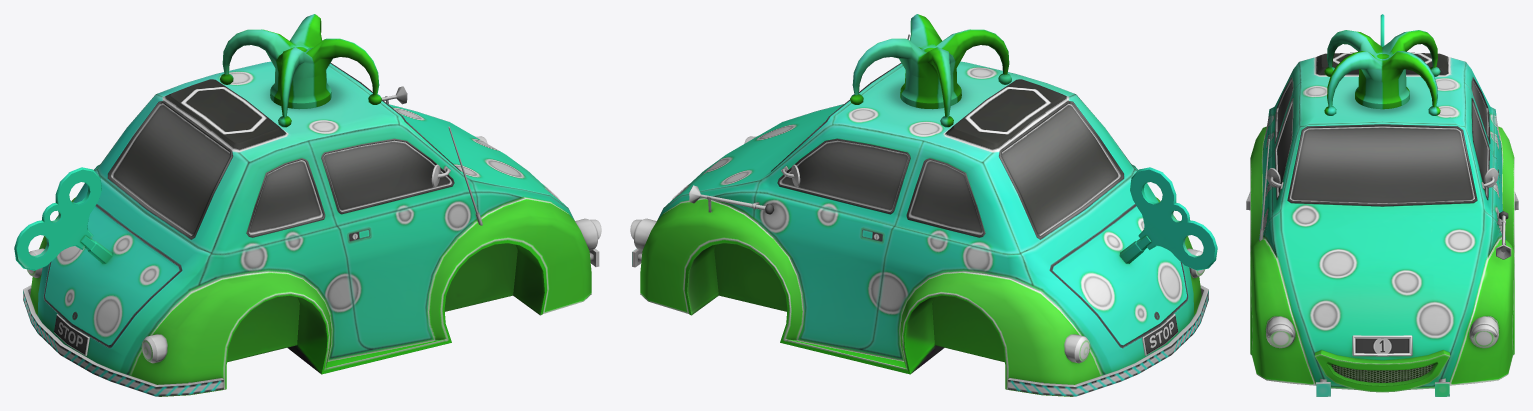
File: f1_car_clown_06.dae
The picture shows the model from 3 angles, left to right: view 1: azimuth 30°, elevation 25°; view 2: azimuth 150°, elevation 25°; view 3: azimuth 270°, elevation 25°; orthographic projection. The views are drawn at different scales.
Visible parts, largest first — view 1: car_body; view 2: car_body; view 3: car_body.
Boxes of the visible parts, bbox=[...] form: car_body: bbox=[14, 14, 601, 396]; car_body: bbox=[630, 14, 1217, 396]; car_body: bbox=[1246, 14, 1518, 396].
Size of the model in its own units: 0.4024 by 0.1936 by 0.1918.
Materials: 1 (1 with a texture image).
